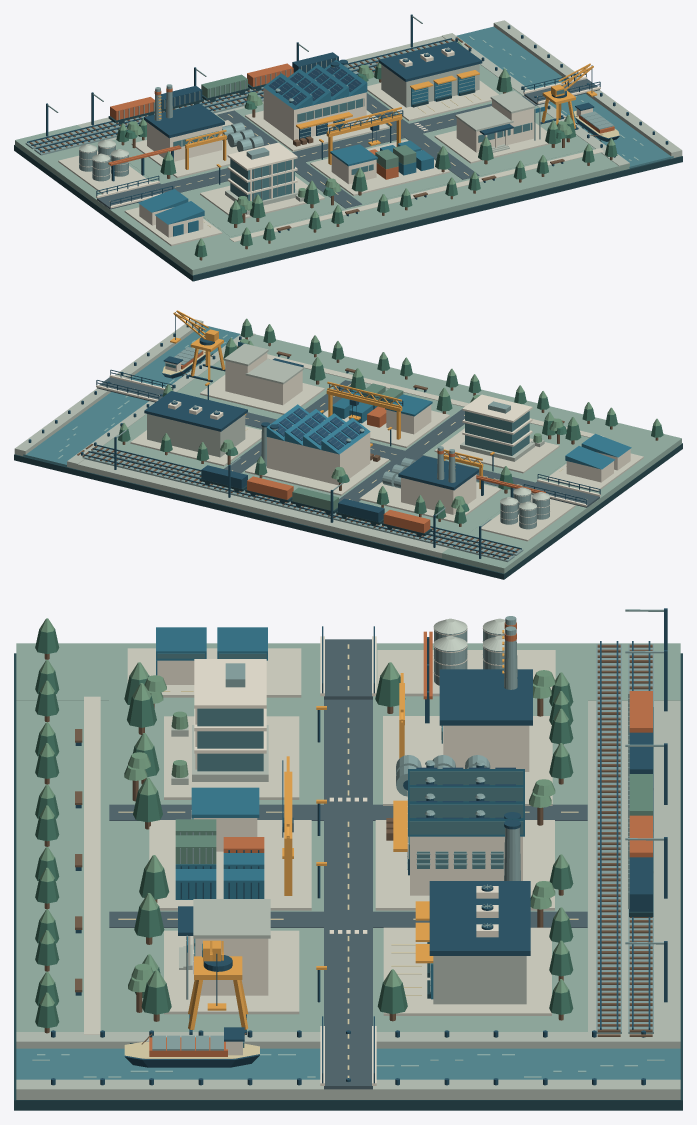
The model's file is market.glb.
The picture shows the model from 3 angles, top to bottom: view 1: azimuth 30°, elevation 25°; view 2: azimuth 150°, elevation 25°; view 3: azimuth 270°, elevation 25°; orthographic projection. The views are drawn at different scales.
Visible parts, largest first — view 1: Ground_verge, Ground_road, Ground_basalt, Ground_water, Ground_deep, Ground_pine, Ground_concrete, Ground_metal, supplier_paving, supplier_metal, Ground_leaf, Ground_paving (+33 smaller); view 2: Ground_verge, Ground_concrete, Ground_deep, Ground_basalt, Ground_road, Ground_water, Ground_pine, Ground_metal, manufacturer_chalk, supplier_paving, customer_concrete, customer_deep (+28 smaller); view 3: Ground_verge, Ground_concrete, Ground_road, Ground_water, Ground_pine, Ground_metal, Ground_basalt, Ground_deep, Ground_bark, Ground_paving, Ground_leaf, supplier_paving (+33 smaller).
Part boxes in pixels (<box>): Ground_verge: <box>15,64,629,275</box>; Ground_road: <box>97,79,599,209</box>; Ground_basalt: <box>14,72,682,281</box>; Ground_water: <box>456,26,673,168</box>; Ground_deep: <box>27,14,668,232</box>; Ground_pine: <box>116,66,617,257</box>; Ground_concrete: <box>78,20,682,167</box>; Ground_metal: <box>25,15,613,155</box>; supplier_paving: <box>58,120,238,194</box>; supplier_metal: <box>79,84,263,181</box>; Ground_leaf: <box>119,41,615,245</box>; Ground_paving: <box>124,148,603,246</box>; Ground_verge: <box>103,334,681,573</box>; Ground_concrete: <box>14,319,448,558</box>; Ground_deep: <box>28,312,600,558</box>; Ground_basalt: <box>14,353,682,579</box>; Ground_road: <box>97,377,599,507</box>; Ground_water: <box>23,326,240,466</box>; Ground_pine: <box>118,324,663,523</box>; Ground_metal: <box>82,347,523,562</box>; manufacturer_chalk: <box>267,432,370,485</box>; supplier_paving: <box>359,481,575,541</box>; customer_concrete: <box>147,414,245,457</box>; customer_deep: <box>144,391,247,431</box>; Ground_verge: <box>16,643,680,1031</box>; Ground_concrete: <box>16,700,680,1099</box>; Ground_road: <box>109,639,587,1089</box>; Ground_water: <box>16,1048,680,1079</box>; Ground_pine: <box>35,628,573,1028</box>; Ground_metal: <box>152,609,663,1050</box>; Ground_basalt: <box>14,653,682,1110</box>; Ground_deep: <box>51,608,667,1085</box>; Ground_bark: <box>44,644,652,1044</box>; Ground_paving: <box>84,648,301,1034</box>; Ground_leaf: <box>39,618,568,1006</box>; supplier_paving: <box>377,650,555,805</box>.
Bounding box in the file's own units: 43 × 6.05 × 27.2.
